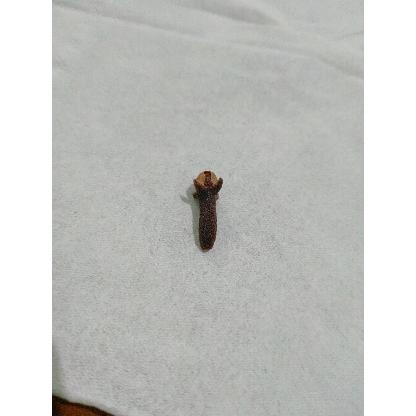baik: (183, 171, 223, 254)
